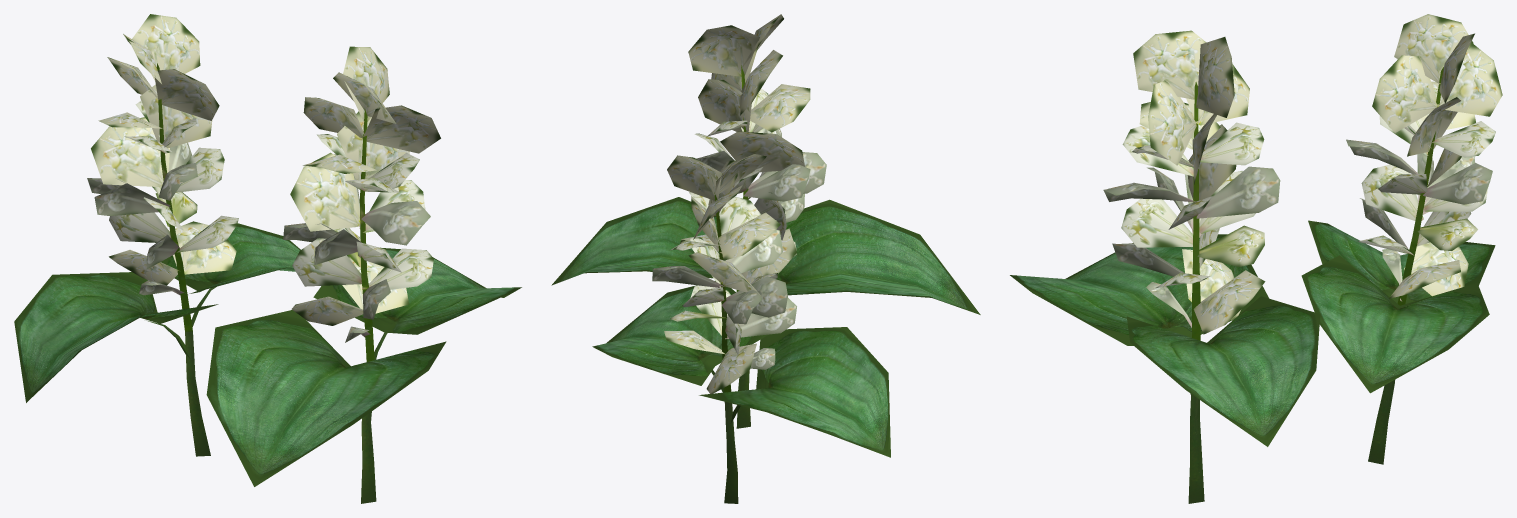
The model's file is Maianthemum bifolium.FBX.
3 views of the same model, side by side, from view 1: azimuth 30°, elevation 25°; view 2: azimuth 150°, elevation 25°; view 3: azimuth 270°, elevation 25° (orthographic). The views are drawn at different scales.
Parts seen in each view (by area): view 1: Maianthemum bifolium002, Maianthemum bifolium004; view 2: Maianthemum bifolium004, Maianthemum bifolium002; view 3: Maianthemum bifolium002, Maianthemum bifolium004.
Part boxes in pixels (left/top/right/bottom): Maianthemum bifolium002: left=206, top=46, right=521, bottom=503; Maianthemum bifolium004: left=14, top=14, right=300, bottom=456; Maianthemum bifolium004: left=592, top=154, right=890, bottom=503; Maianthemum bifolium002: left=551, top=14, right=980, bottom=428; Maianthemum bifolium002: left=1010, top=30, right=1320, bottom=503; Maianthemum bifolium004: left=1301, top=14, right=1502, bottom=464.
Bounding box in the file's own units: 37.75 × 37.93 × 36.66.
